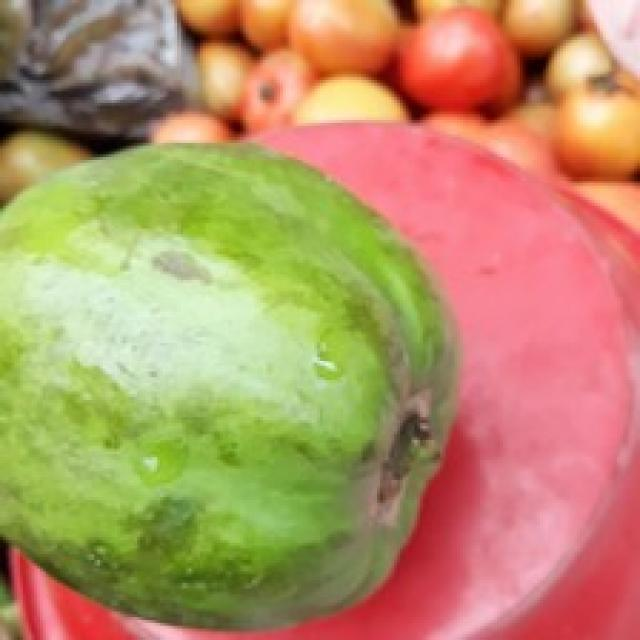Pepaya unrippen: (1, 131, 469, 626)
